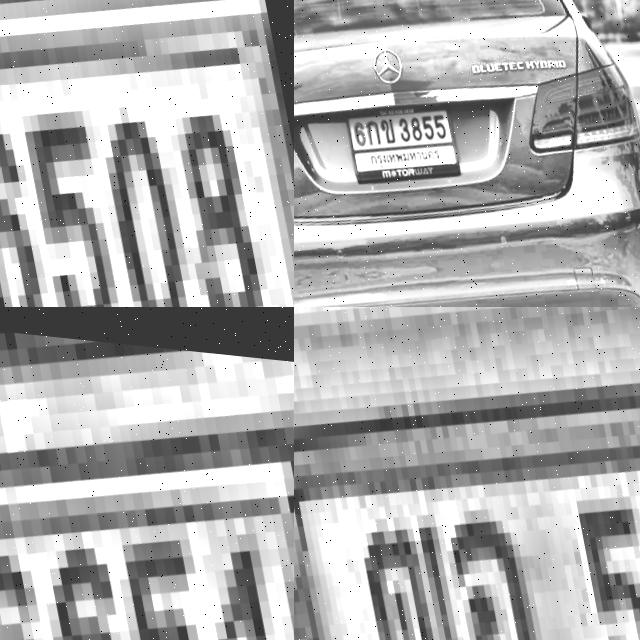license-plate: (294, 311, 640, 640), (0, 307, 294, 640), (0, 0, 294, 307), (342, 84, 459, 185)
